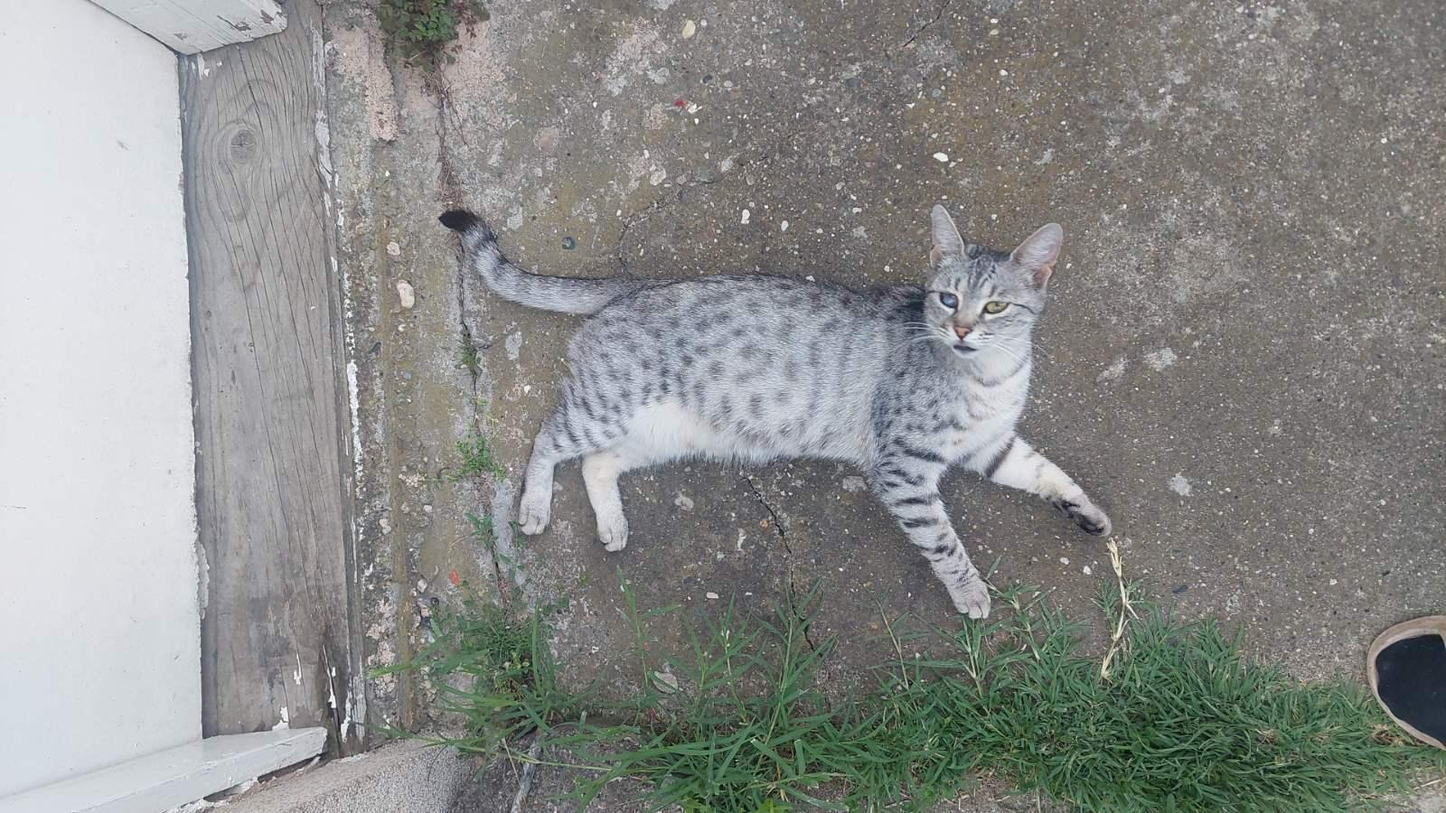macka: (439, 205, 1116, 623)
